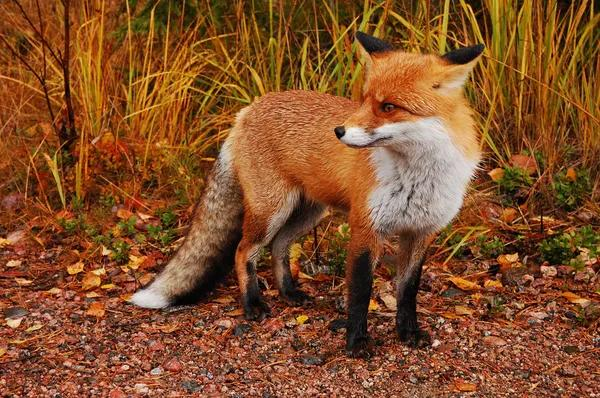fox: (153, 22, 494, 358)
